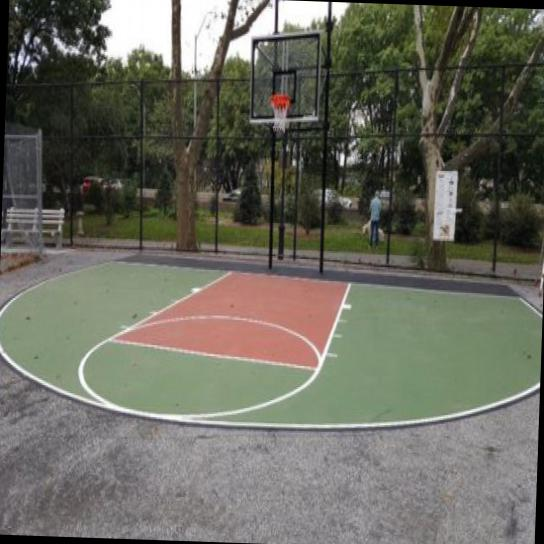basketball-hoop: (268, 92, 292, 134)
